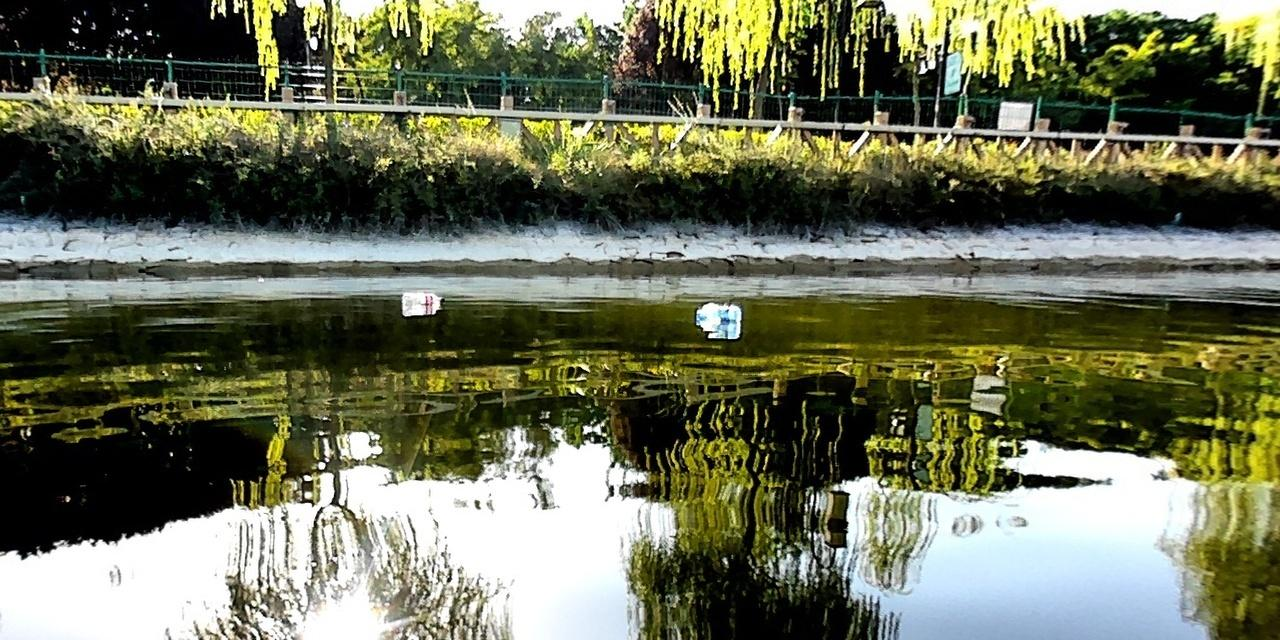bottle: (688, 303, 743, 327), (398, 287, 449, 305)
